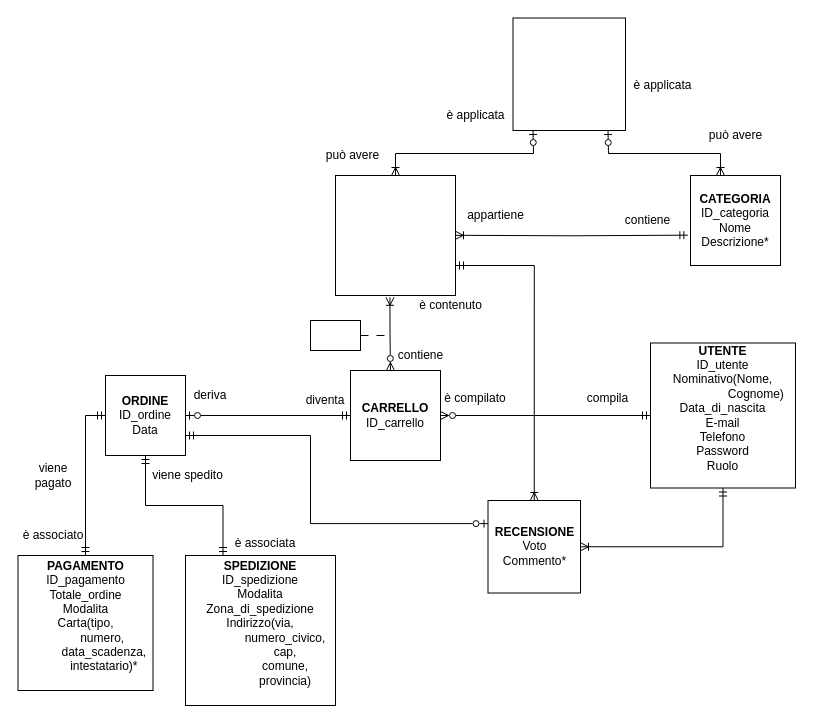
This 813x723 diagram has some shape labels left out. The centre of each missing label's shape, as x and y in pixels:
PRODOTTO ID_prodotto Nome Descrizione Prezzo Foto_del_prodotto* Quantità: point (395, 235)
PROMOZIONE ID_promozione Nome Percentuale_sconto Data_inizio* Data_fine*: point (569, 73)
Quantità: point (335, 335)
